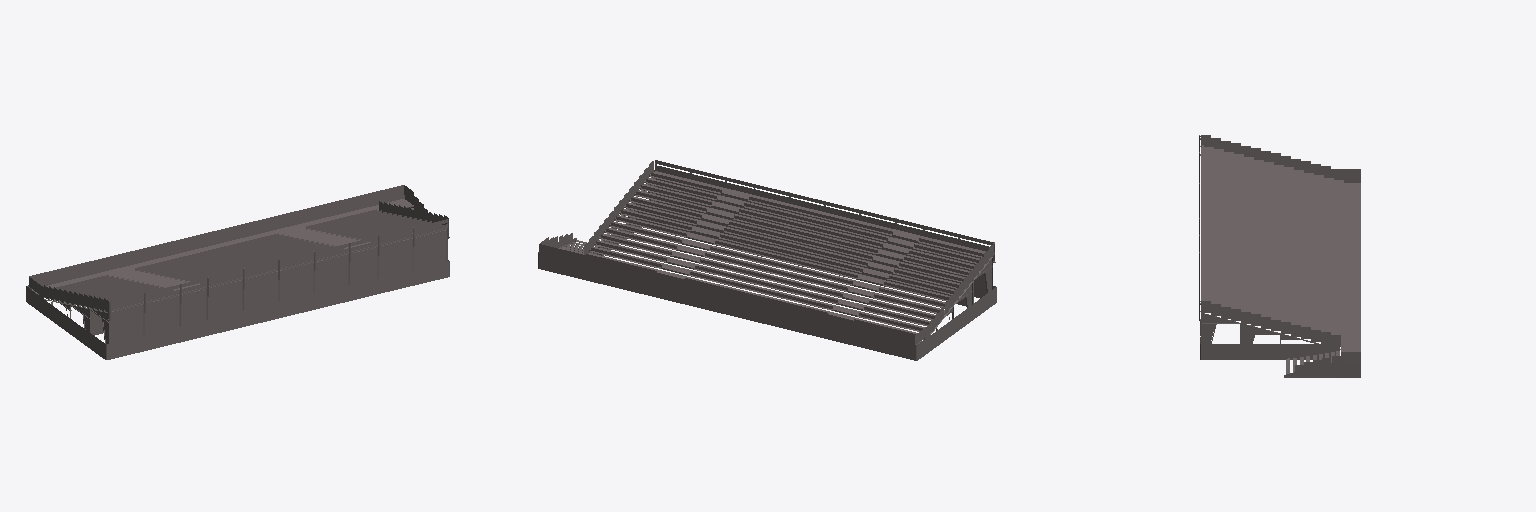
3 views of the same model, side by side, from view 1: azimuth 30°, elevation 25°; view 2: azimuth 150°, elevation 25°; view 3: azimuth 270°, elevation 25° (orthographic).
Parts seen in each view (by area): view 1: Node_013_mel_grandstand_genericmedium_a_physics_!bk; view 2: Node_013_mel_grandstand_genericmedium_a_physics_!bk; view 3: Node_013_mel_grandstand_genericmedium_a_physics_!bk.
Part boxes in pixels (bbox=[...]): Node_013_mel_grandstand_genericmedium_a_physics_!bk: bbox=[26, 185, 449, 359]; Node_013_mel_grandstand_genericmedium_a_physics_!bk: bbox=[538, 160, 996, 360]; Node_013_mel_grandstand_genericmedium_a_physics_!bk: bbox=[1199, 135, 1360, 377].
Size of the model in its own units: 151 by 22.42 by 56.02.
1 materials, 1 textured.